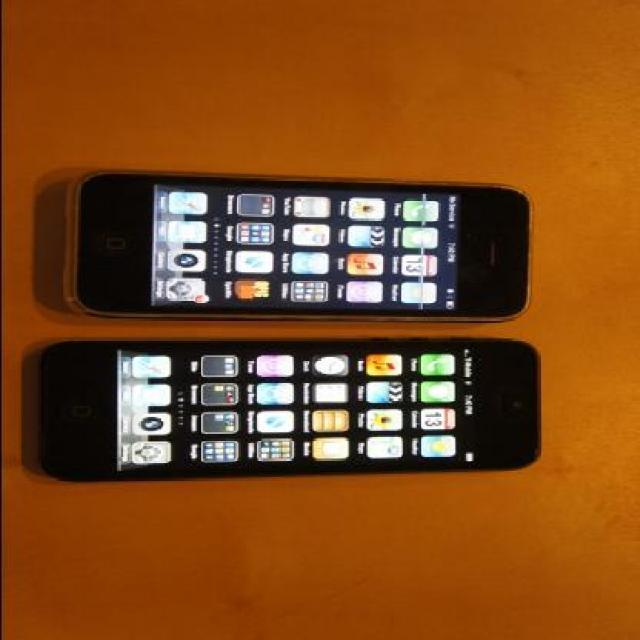phone: (59, 168, 536, 325), (36, 339, 542, 485)
